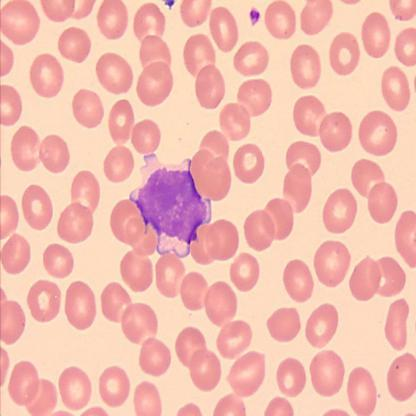Atypical lymphocyte: (132, 154, 216, 257)
